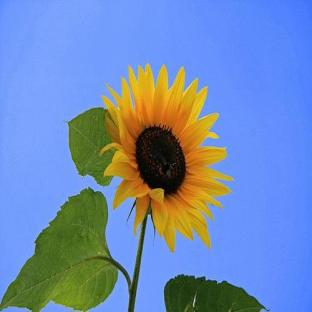sunflower: (66, 65, 234, 303)
